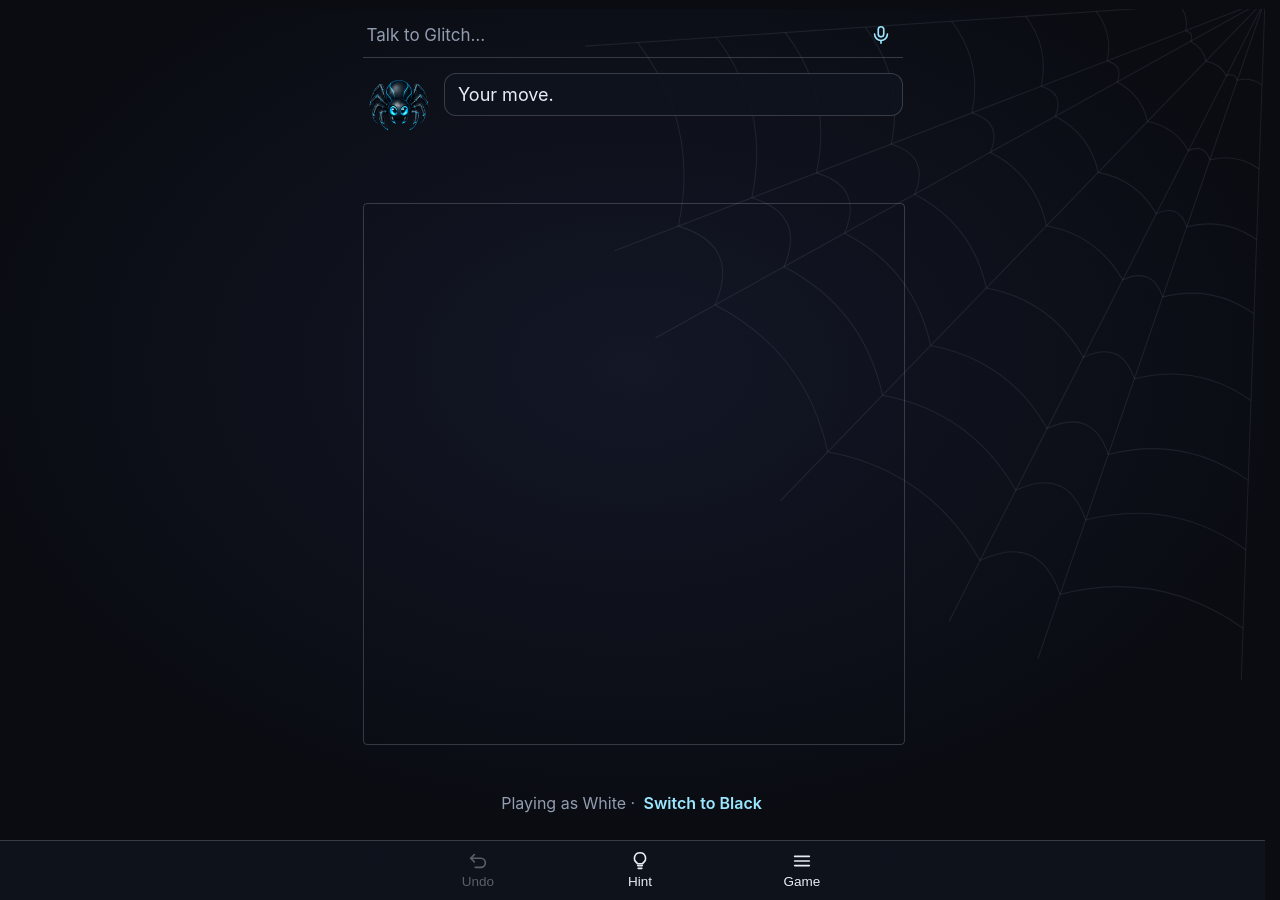
Test: App layout › keeps the voice switch in the menu, not the command row
Expected: the navigation bar named "game controls" is shown, x1=0 y1=840 x2=1279 y2=899
Click the button "Game" at (802, 870), box x1=721 y1=840 x2=883 y2=899
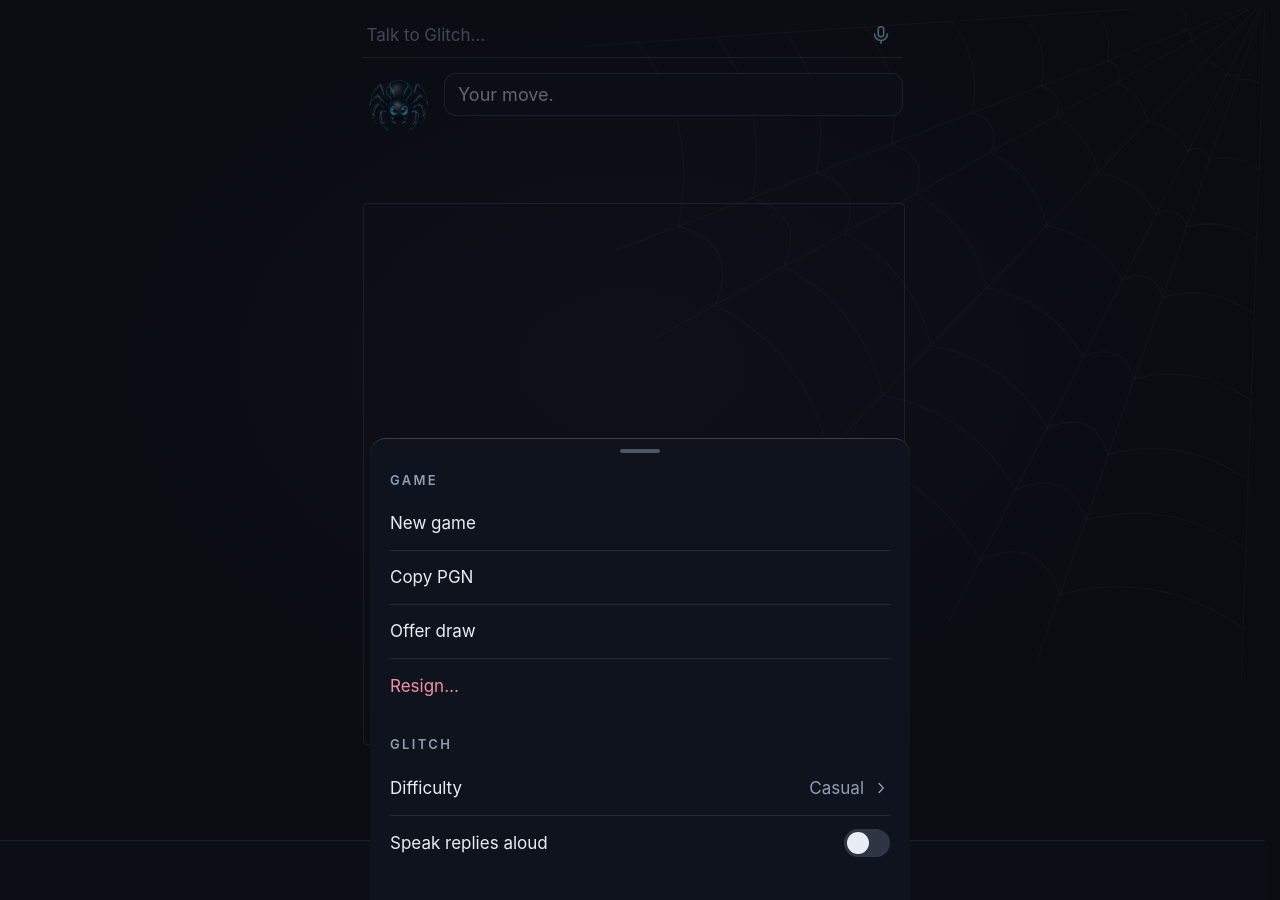
Expected: the switch labelled "Speak replies aloud" is shown, x1=390 y1=816 x2=890 y2=870
